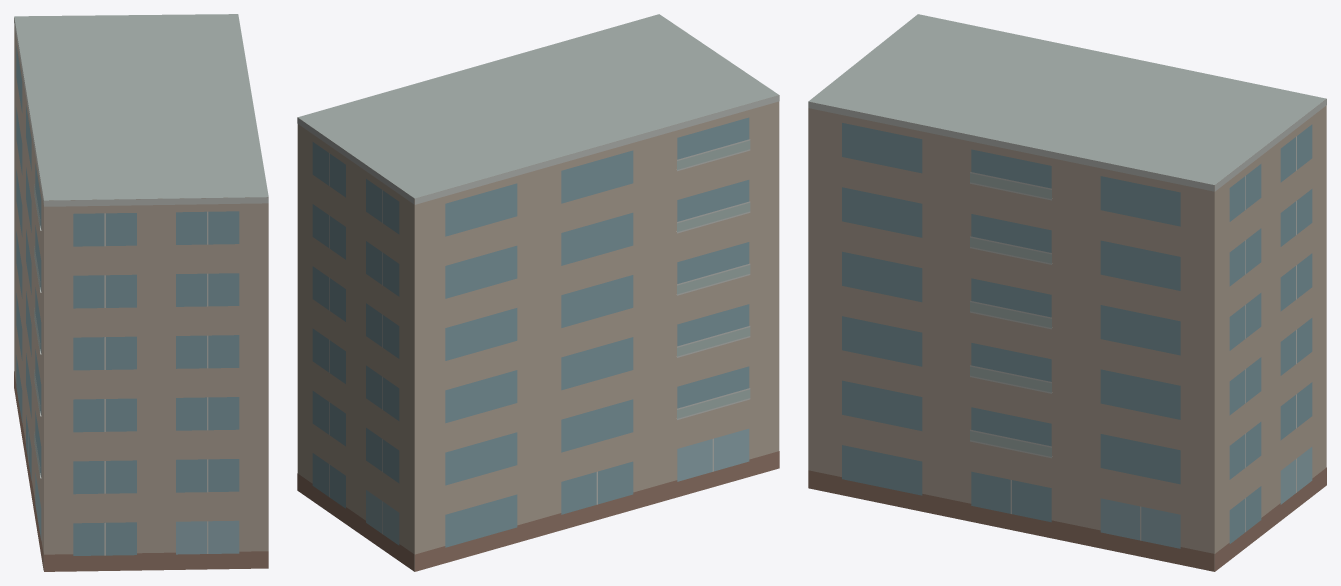
File: survey-upis-33015056.glb
The picture shows the model from 3 angles, left to right: view 1: azimuth 30°, elevation 25°; view 2: azimuth 150°, elevation 25°; view 3: azimuth 270°, elevation 25°; orthographic projection. The views are drawn at different scales.
Visible parts, largest first — view 1: survey-upis-33015056.tmp; view 2: survey-upis-33015056.tmp; view 3: survey-upis-33015056.tmp.
Boxes of the visible parts, x1,y1,x2,y2 form: survey-upis-33015056.tmp: (14,14,268,571); survey-upis-33015056.tmp: (297,14,779,571); survey-upis-33015056.tmp: (808,14,1326,571).
Size of the model in its own units: 13.68 by 14.4 by 17.51.
